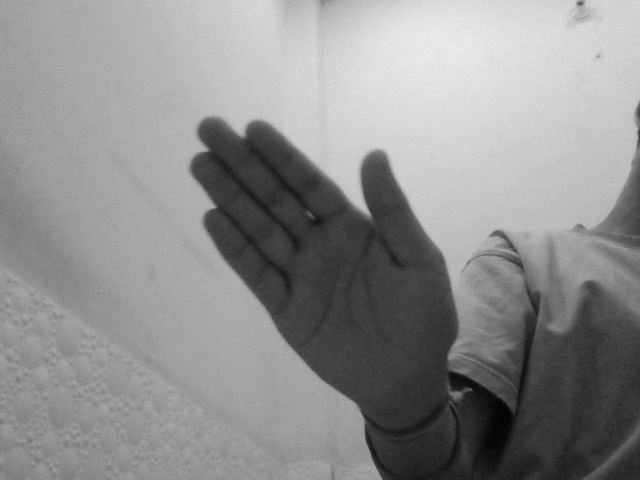Hello: (185, 115, 461, 420)
